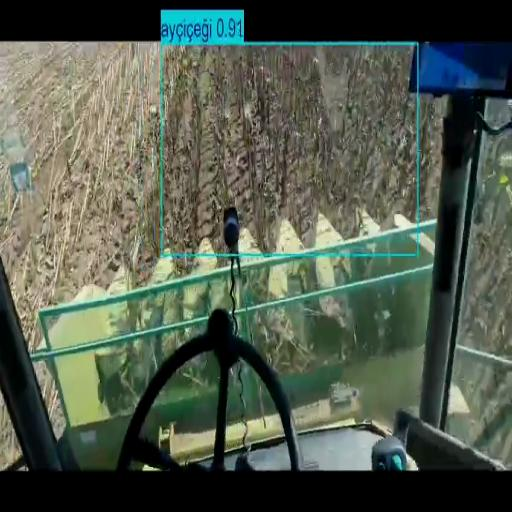ayc: (162, 47, 417, 249), (223, 47, 414, 196)
